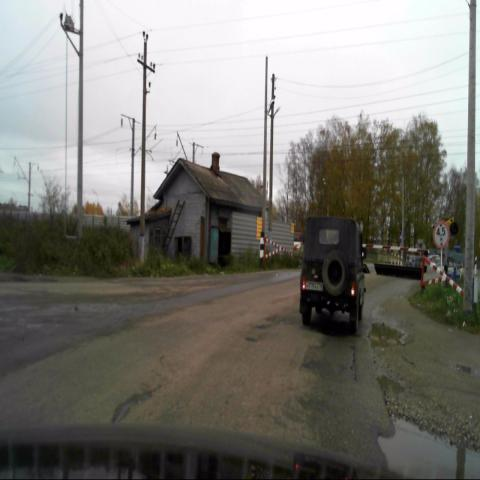3_13: (433, 221, 449, 249)
